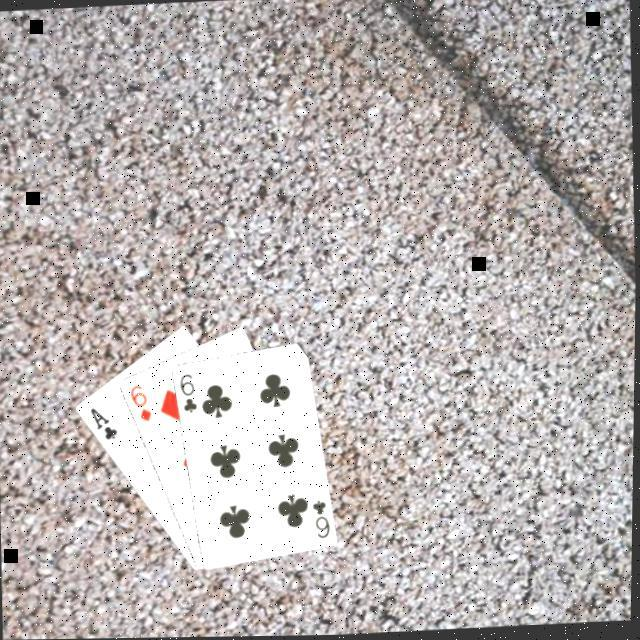6C: (176, 368, 202, 415), (310, 495, 336, 541)
6D: (128, 380, 158, 424)
AC: (88, 402, 122, 442)
